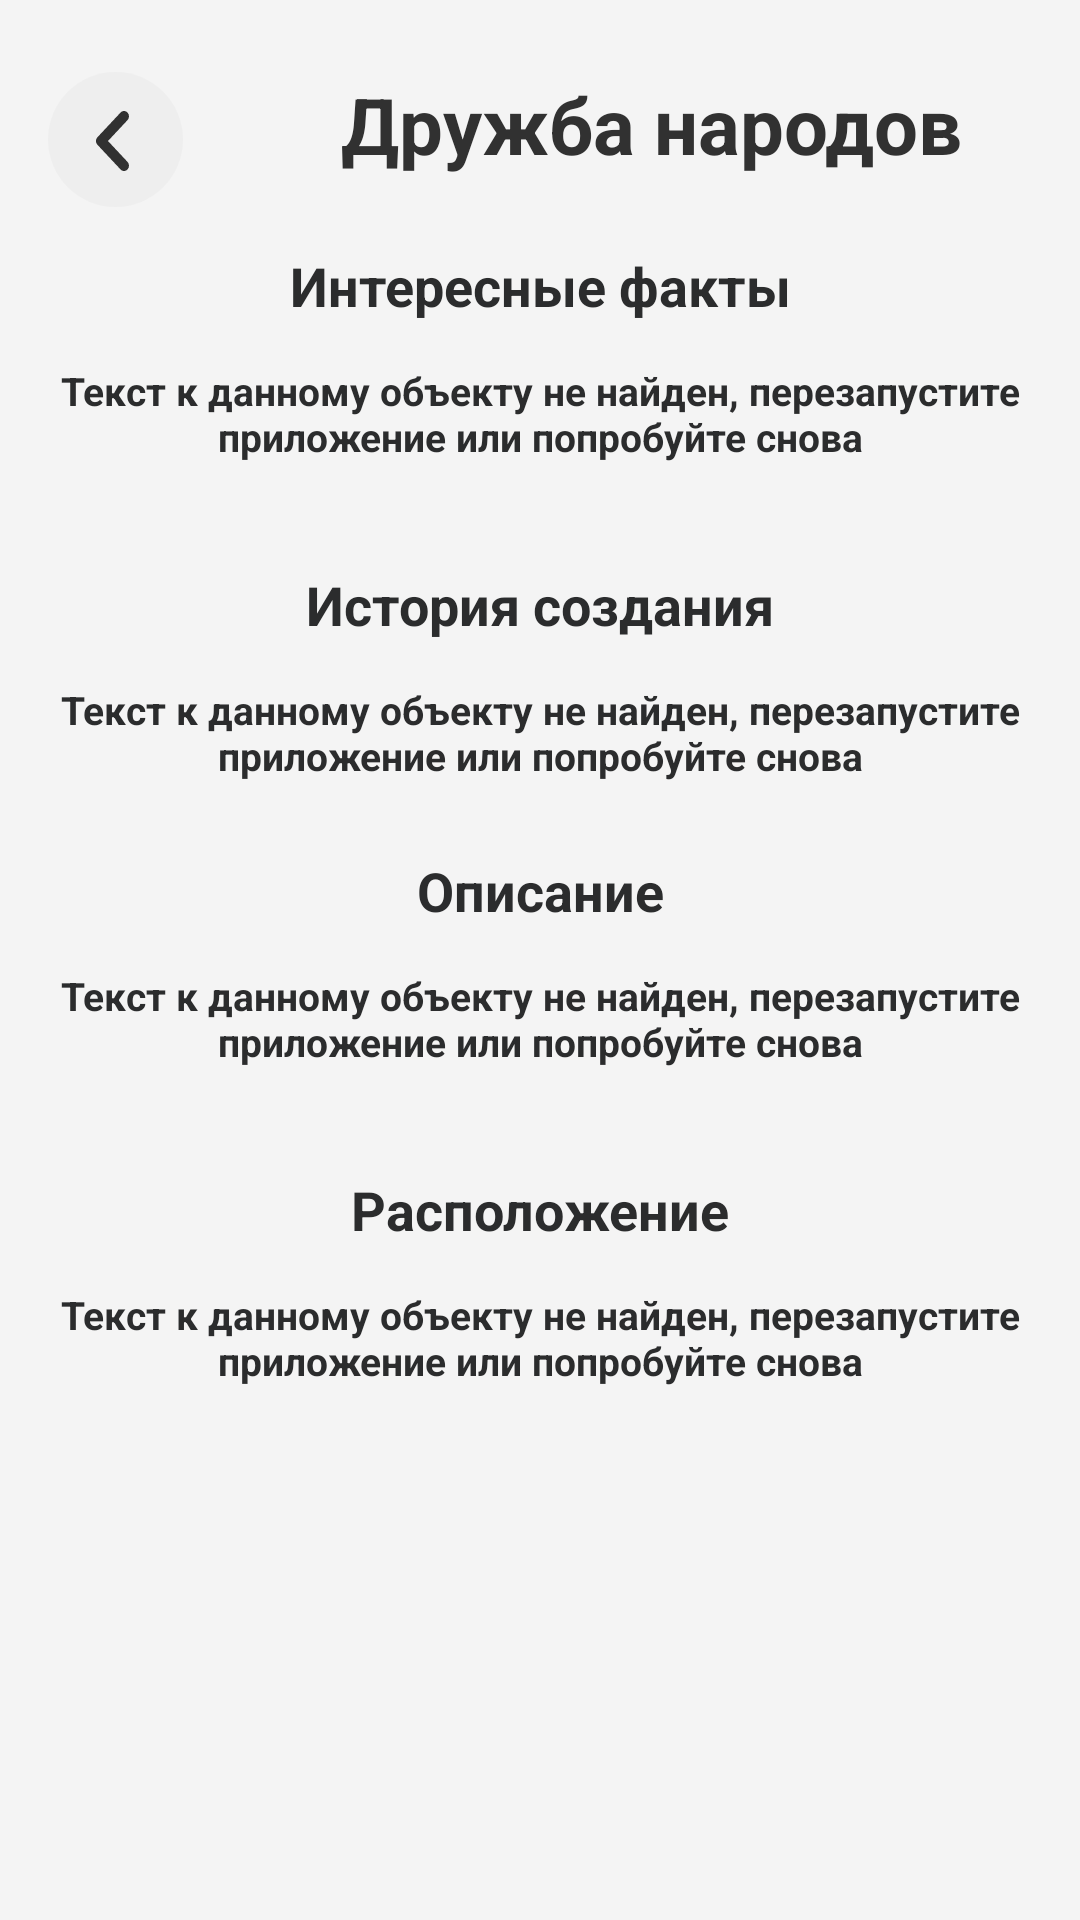

Where icons sit on this 1080 × 1920 app screen, as rect(x1, y1, x2, y2):
backbutton: rect(96, 111, 129, 171)
